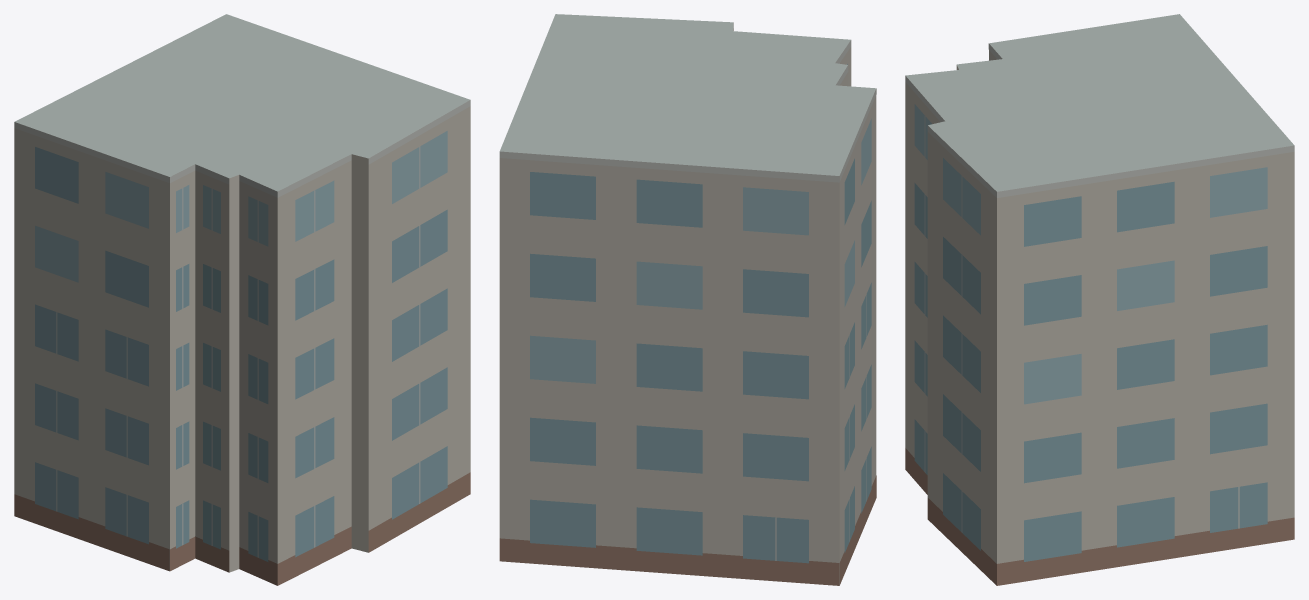
Rendered from survey-upis-32863569.glb.
3 renders of one model, left to right at view 1: azimuth 30°, elevation 25°; view 2: azimuth 150°, elevation 25°; view 3: azimuth 270°, elevation 25°, orthographic. The views are drawn at different scales.
Parts seen in each view (by area): view 1: survey-upis-32863569.tmp; view 2: survey-upis-32863569.tmp; view 3: survey-upis-32863569.tmp.
Part boxes in pixels (<box>): survey-upis-32863569.tmp: <box>14,14,470,585</box>; survey-upis-32863569.tmp: <box>499,14,876,585</box>; survey-upis-32863569.tmp: <box>905,14,1294,585</box>.
Bounding box in the file's own units: 14.92 × 15.4 × 13.8.
